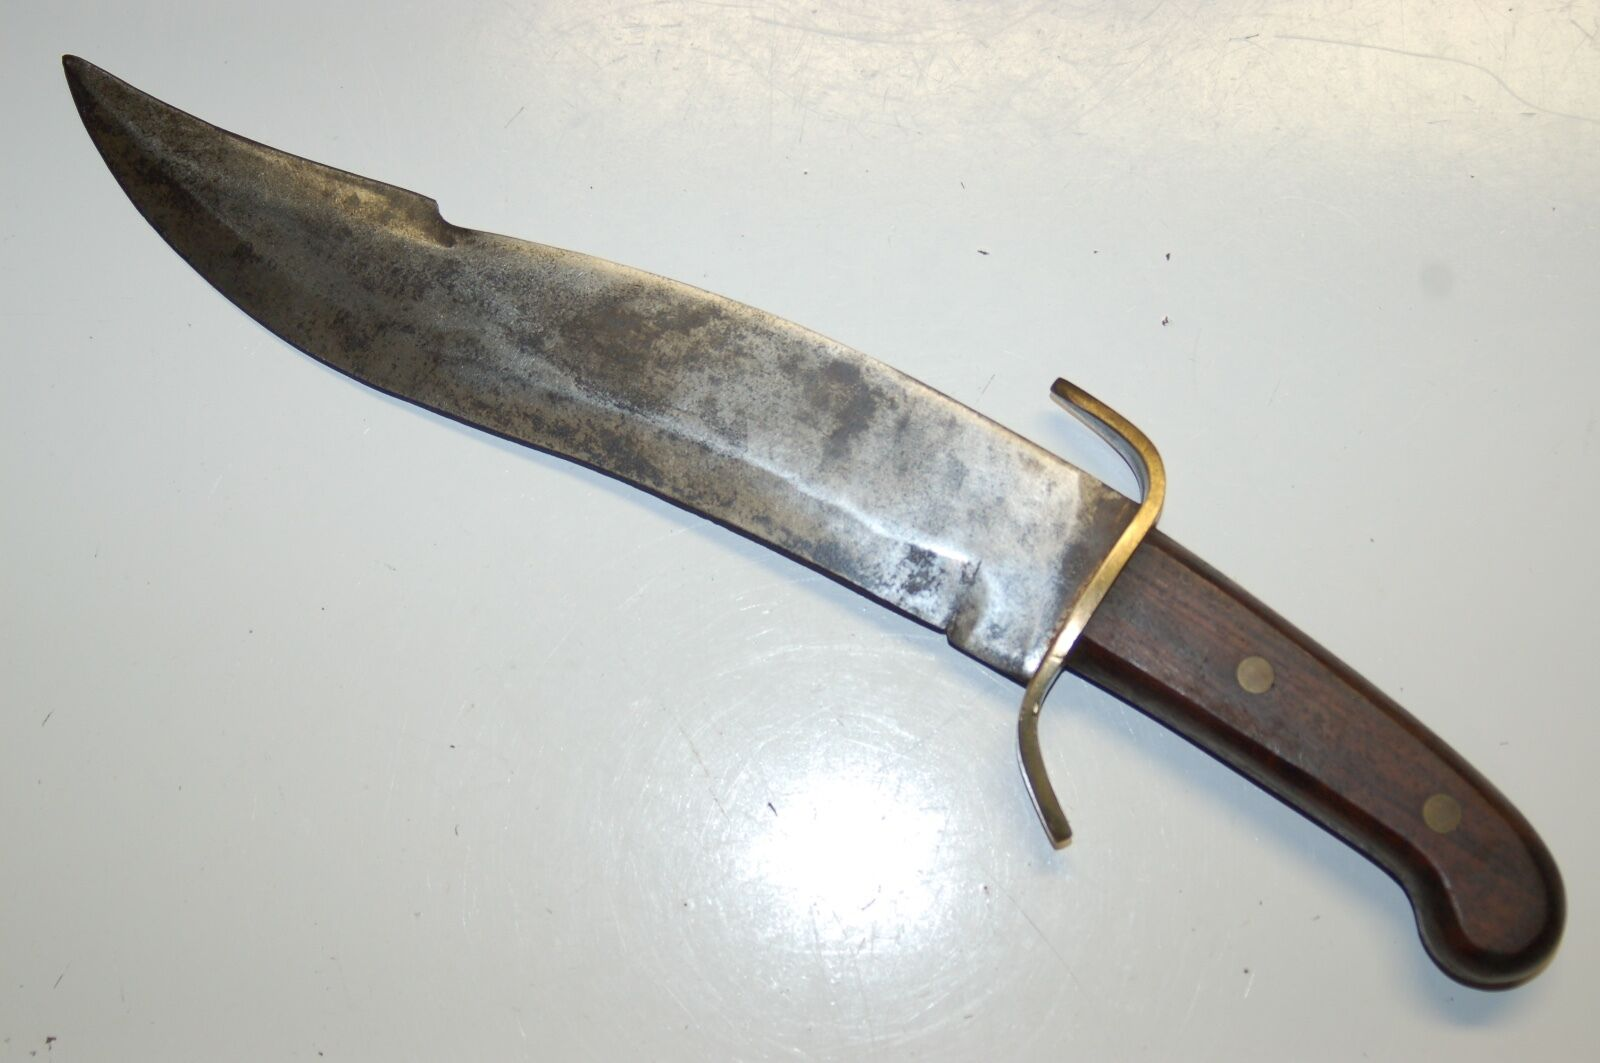knief: (37, 37, 1576, 992)
